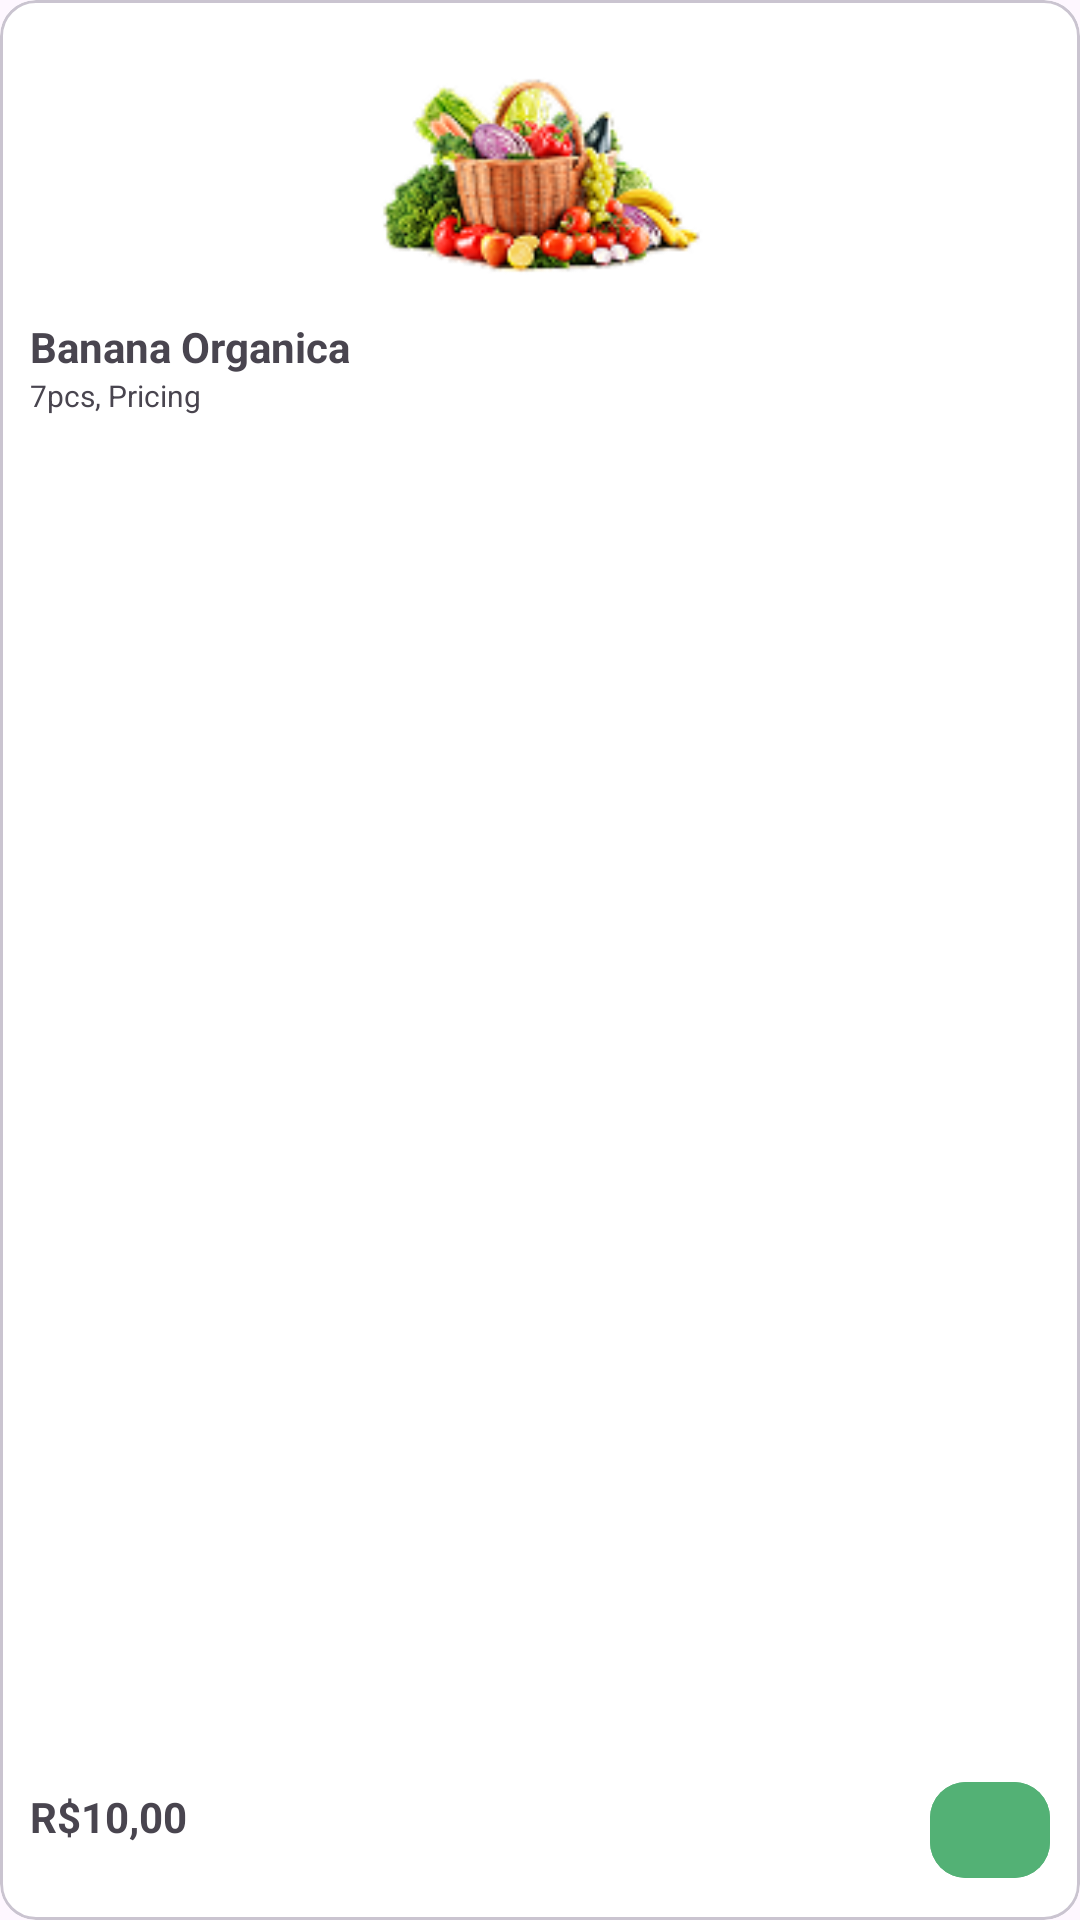

Icon click points for this 1080 × 1920 phone screenshot, format point (x, y):
fruta vegetal: point (541, 175)
